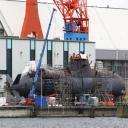submarine: (7, 60, 127, 101)
